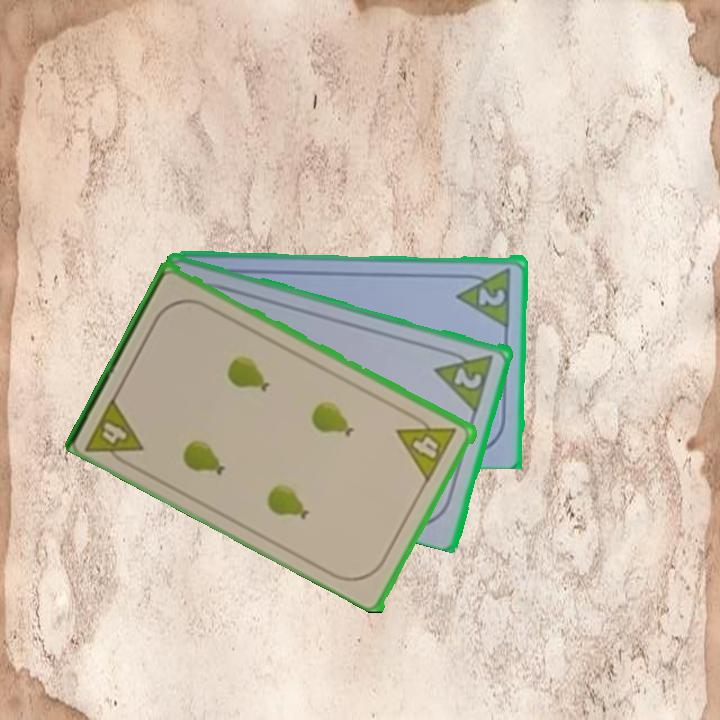2p: (454, 263, 514, 328), (451, 364, 486, 392)
4p: (82, 391, 148, 472), (394, 408, 460, 483)
